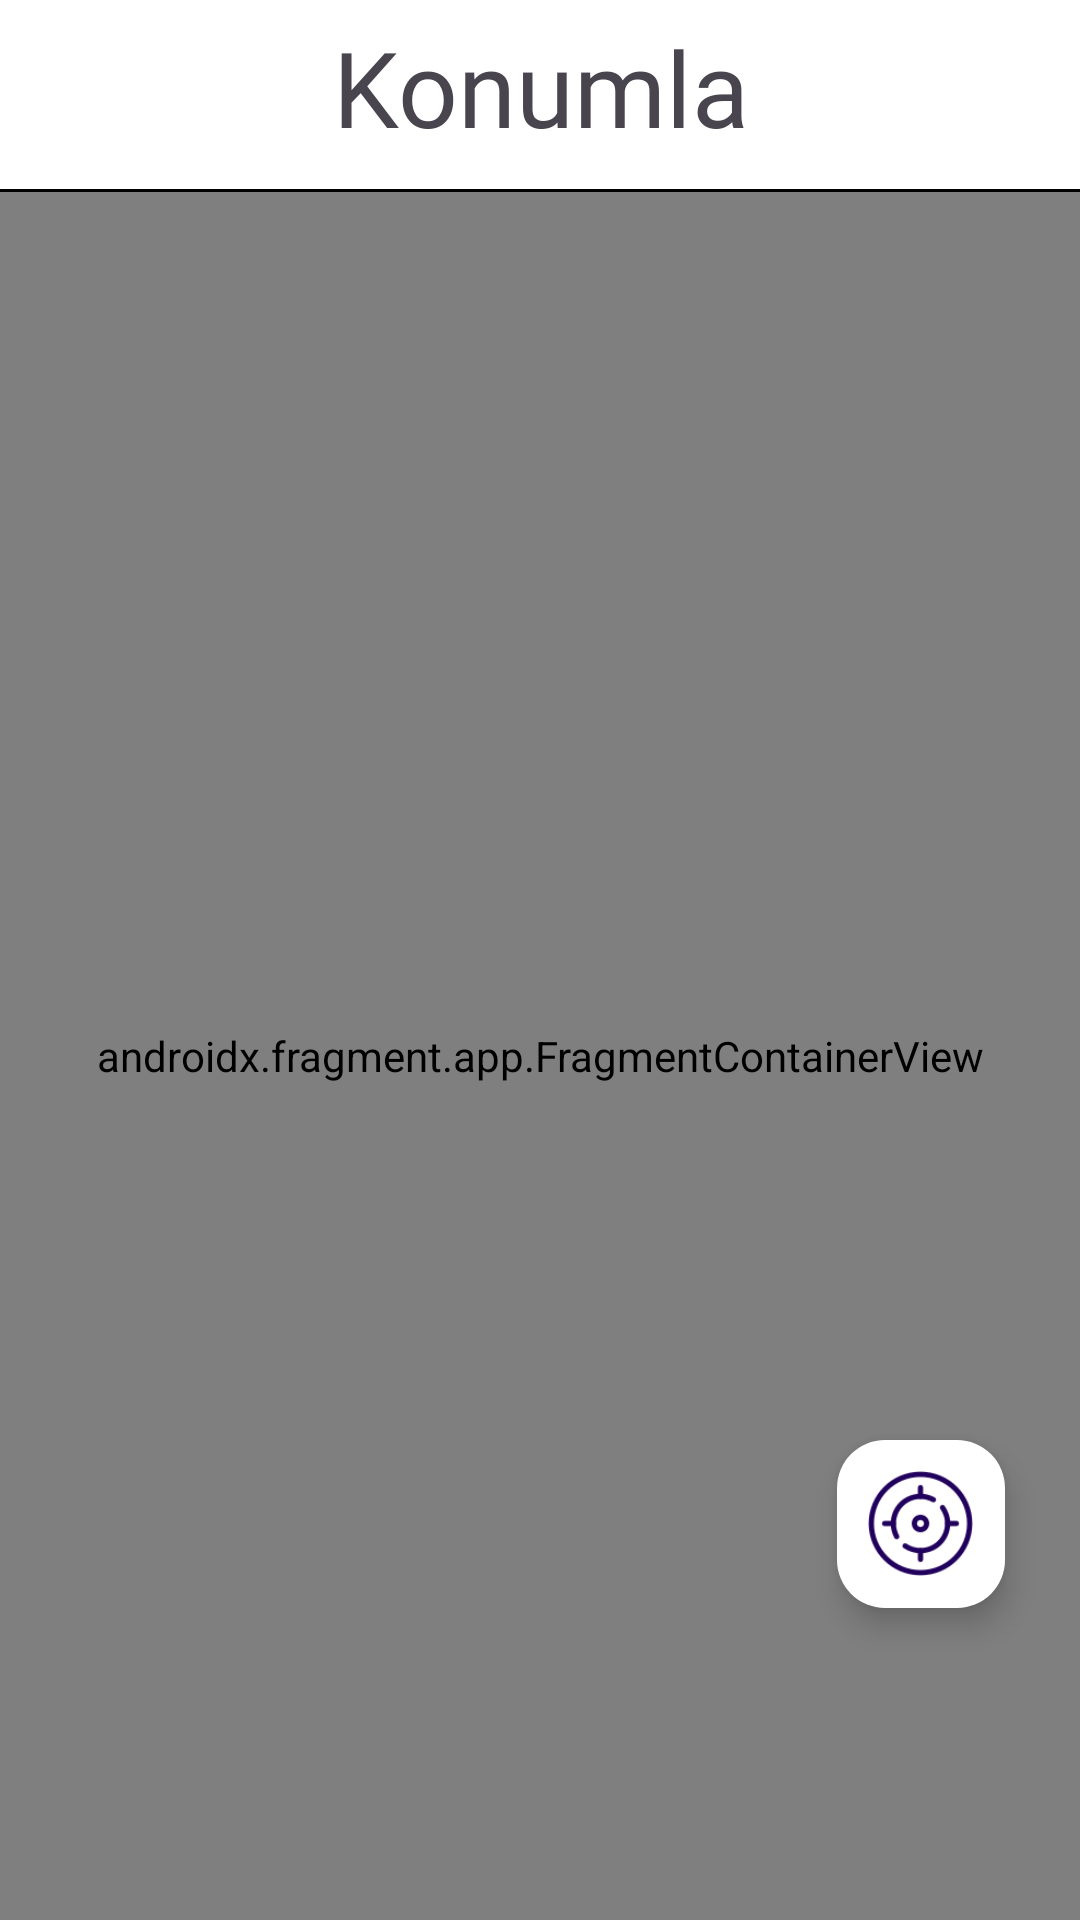

Named icons in this screenshot (1080x1920) and their centers, point (x, y):
Konumuna Git: point (921, 1524)
